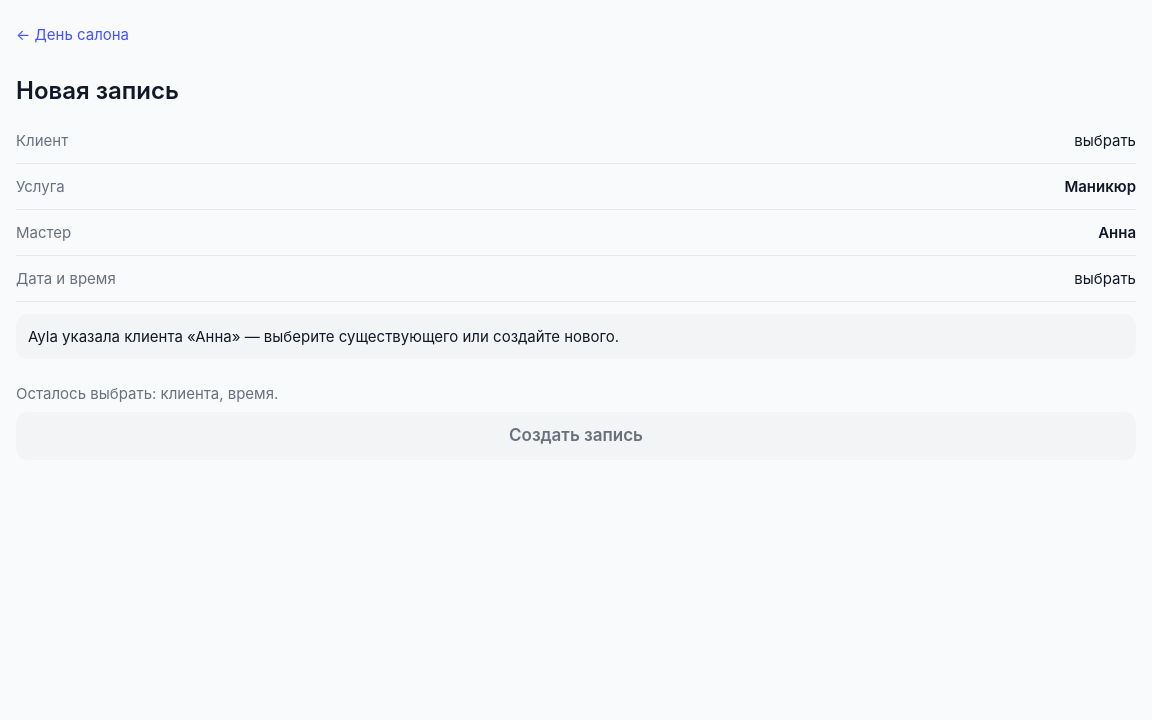
Scenario: prefill from the admin assistant (DRF-2119) › treats Ayla client name as a search hint, not a selected new customer
expect the button with aria-label "Мастер: Анна" is shown: met, box [16, 210, 1136, 256]
expect the text "Ayla указала клиента «Анна» — выберите существующего или создайте нового." is shown: met, box [16, 314, 1136, 359]
Click the button with aria-label "Клиент: выбрать": coordinates (42, 140) [16, 118, 1136, 164]
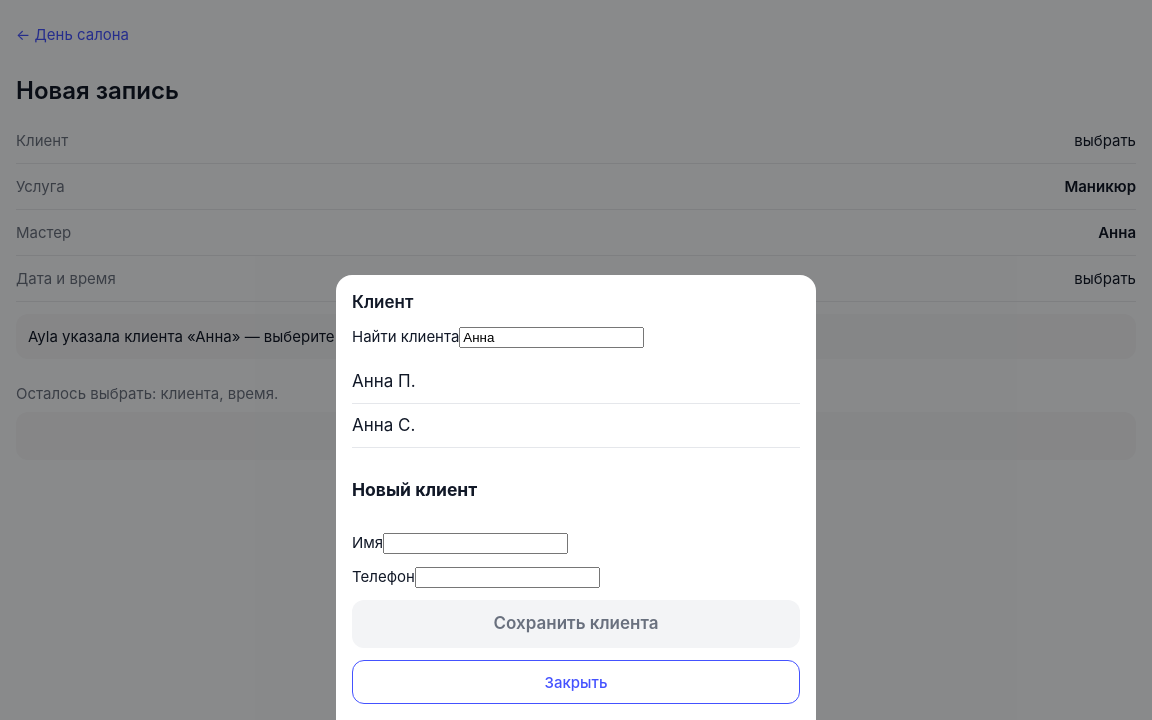
expect the button "Анна П." is shown: met, box [352, 360, 800, 404]
expect the button "Анна С." is shown: met, box [352, 404, 800, 448]
